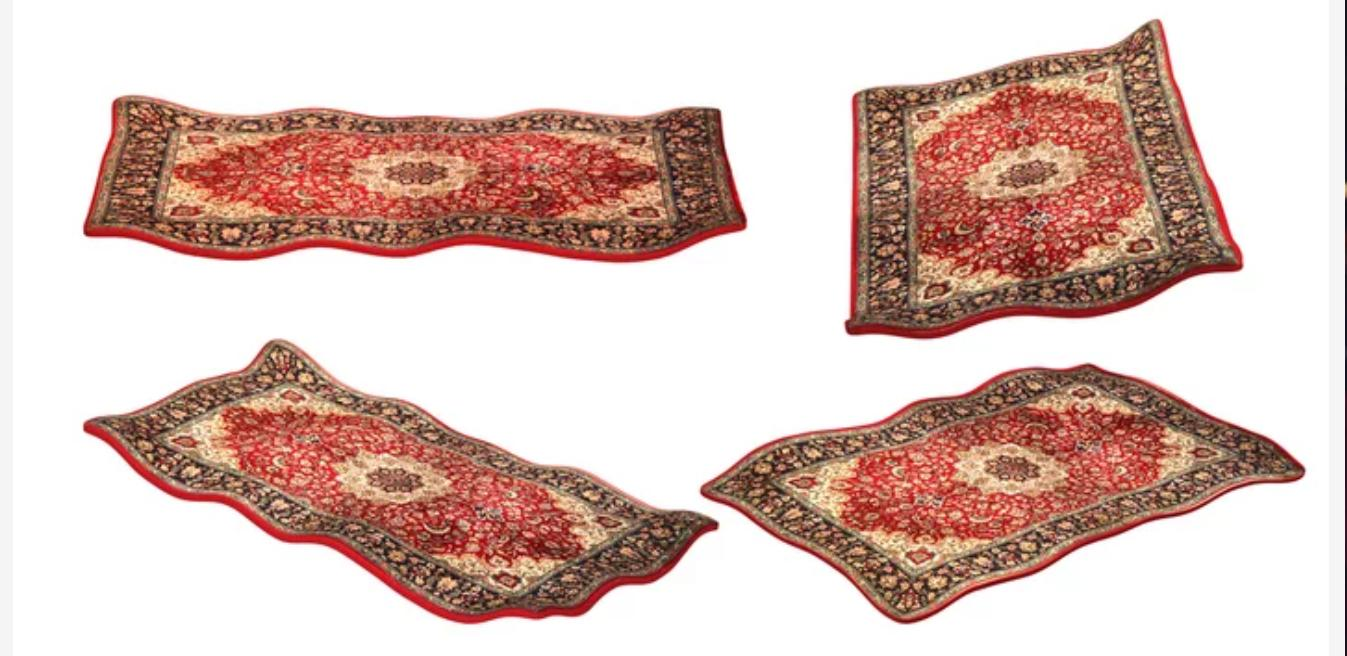carpet: (72, 282, 710, 656), (696, 272, 1305, 656), (789, 7, 1247, 379), (84, 94, 747, 270)
